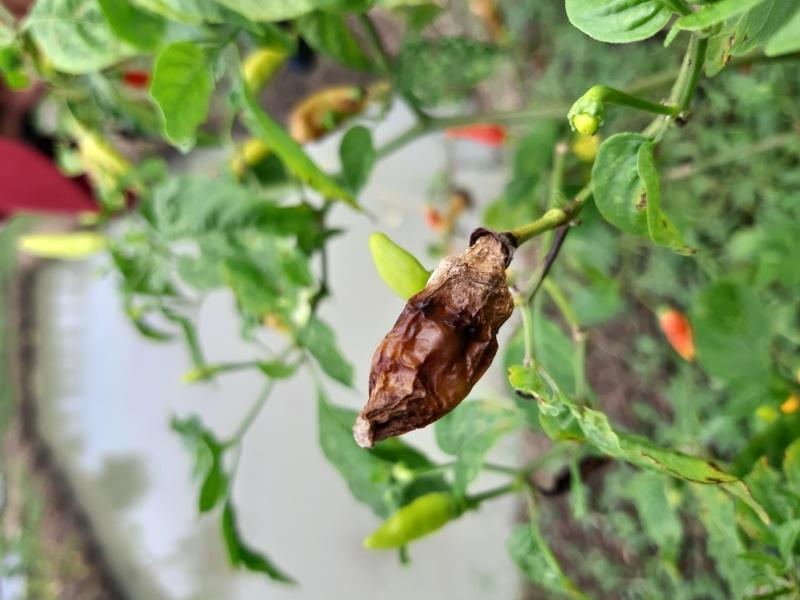antraknosa: (356, 230, 518, 446)
